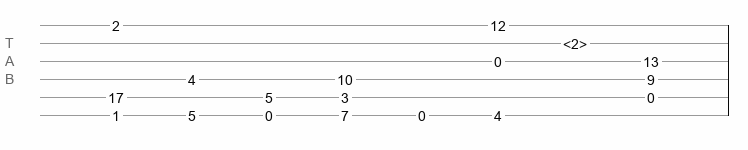0: (265, 108, 273, 118), (418, 108, 426, 118), (494, 54, 502, 64), (647, 90, 655, 100)
1: (112, 108, 120, 118)
10: (337, 72, 353, 82)
12: (490, 18, 506, 28)
13: (643, 54, 659, 64)
17: (108, 90, 124, 100)
2: (112, 18, 120, 28)
3: (341, 90, 349, 100)
4: (188, 72, 196, 82), (494, 108, 502, 118)
5: (188, 108, 196, 118), (265, 90, 273, 100)
7: (341, 108, 349, 118)
9: (647, 72, 655, 82)
harmonic: (563, 36, 587, 46)
